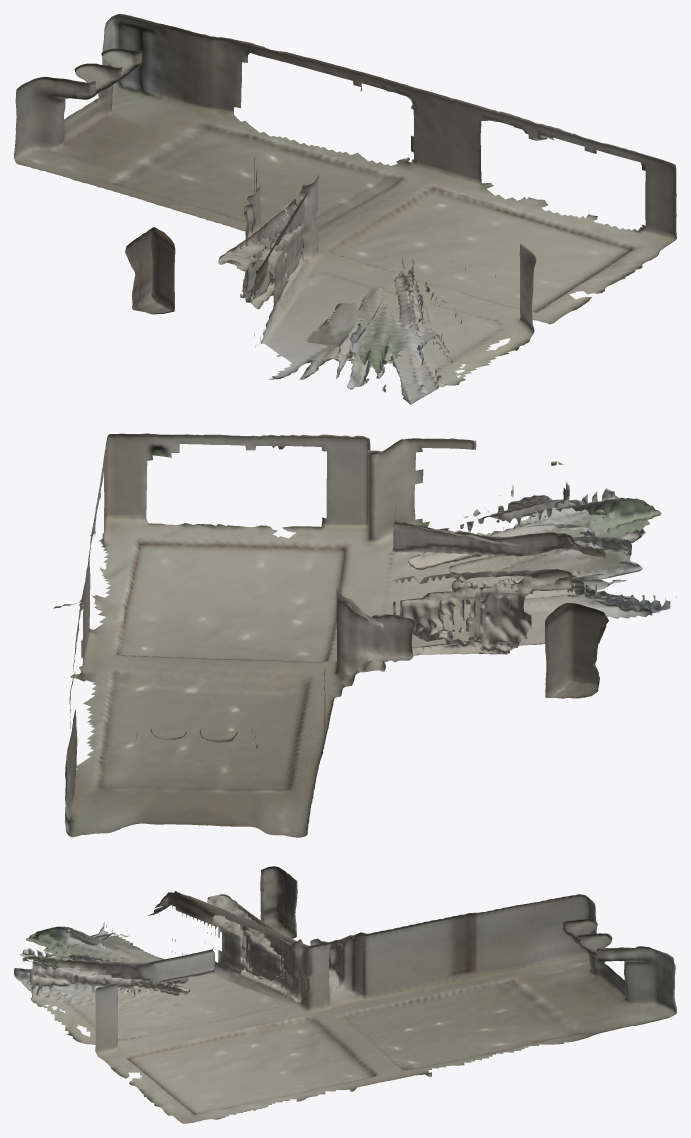
The model's file is scene_collider.glb.
3 views of the same model, one above another, from view 1: azimuth 30°, elevation 25°; view 2: azimuth 150°, elevation 25°; view 3: azimuth 270°, elevation 25° (orthographic). The views are drawn at different scales.
Visible parts, largest first — view 1: world; view 2: world; view 3: world.
Boxes of the visible parts, x1,y1,x2,y2 form: world: [14, 14, 676, 404]; world: [53, 433, 676, 837]; world: [14, 866, 676, 1123].
Size of the model in its own units: 7.49 by 1.29 by 10.5.
